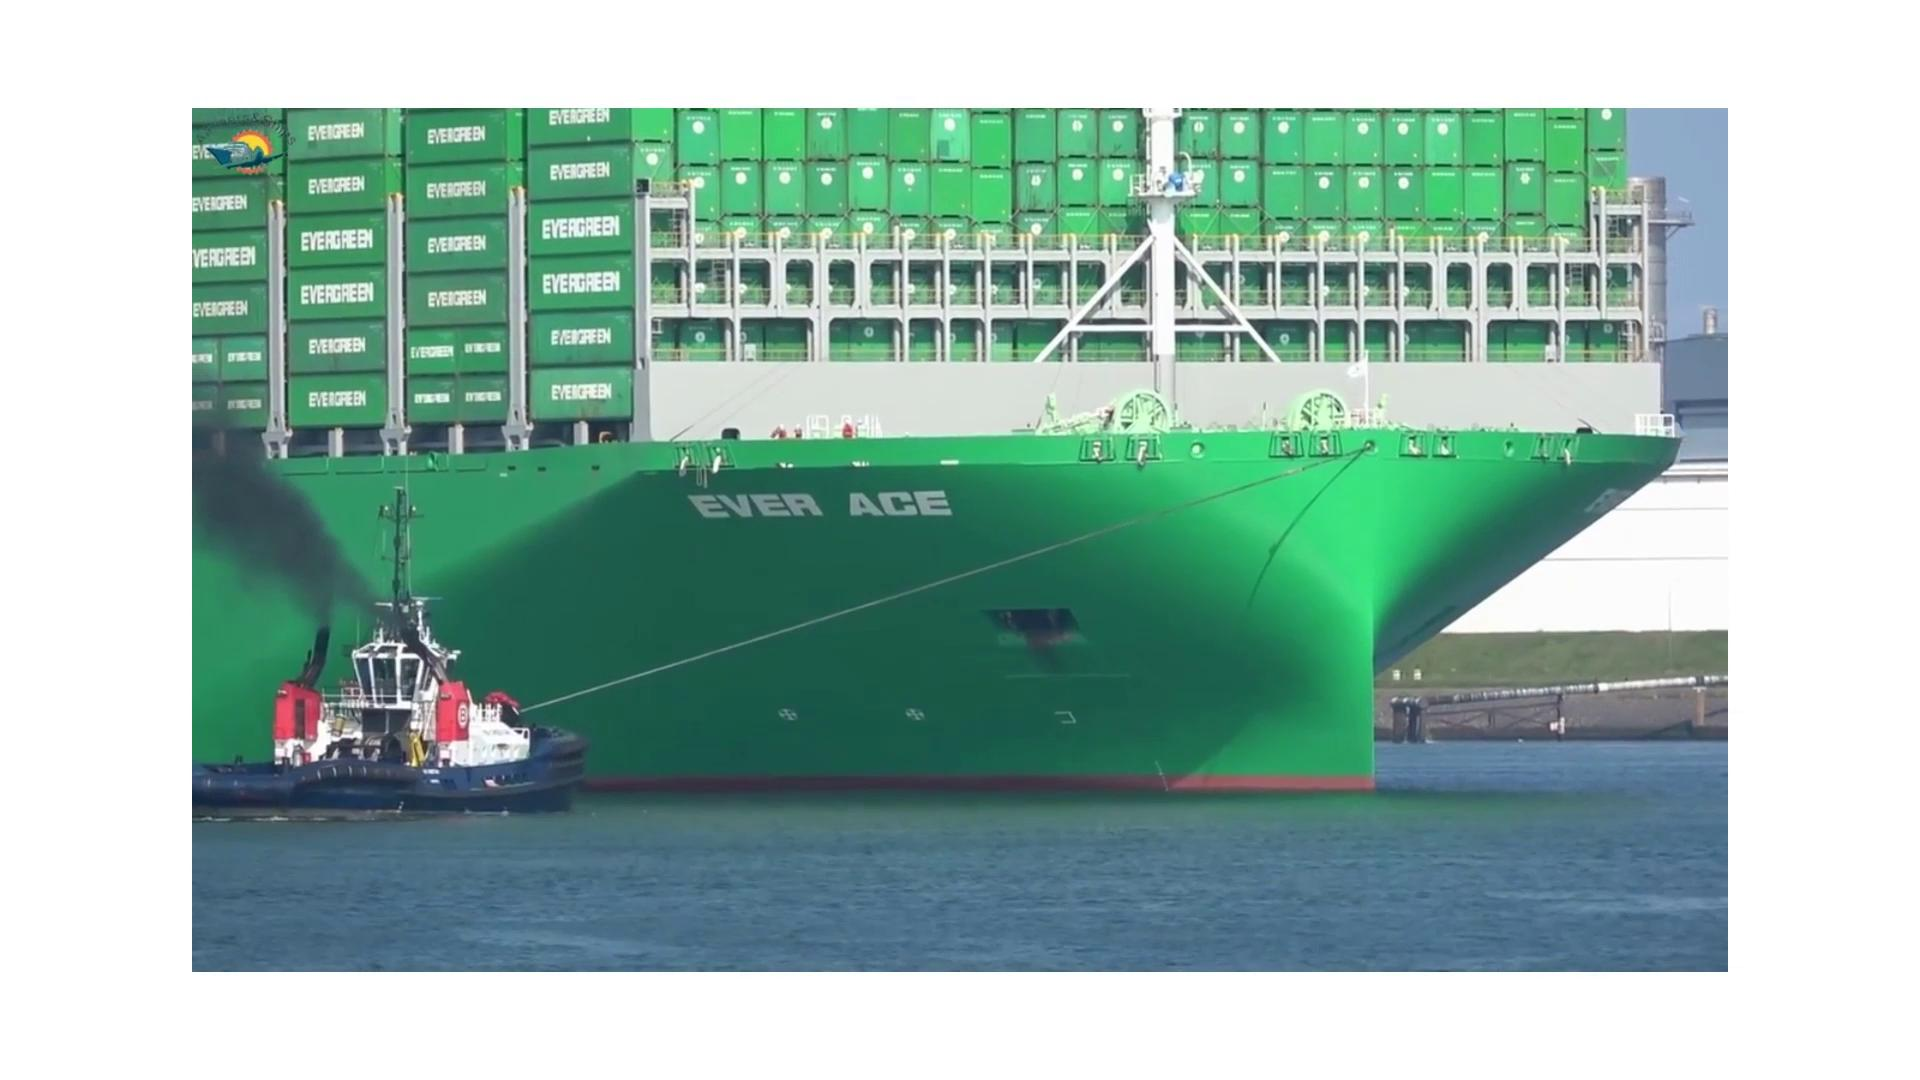OCR: (671, 479, 975, 542)
